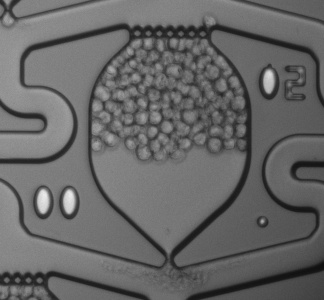AptNum: (251, 61, 311, 109)
Marker: (252, 212, 274, 233)
StNum: (26, 179, 90, 230)
Trap: (135, 257, 191, 300)
